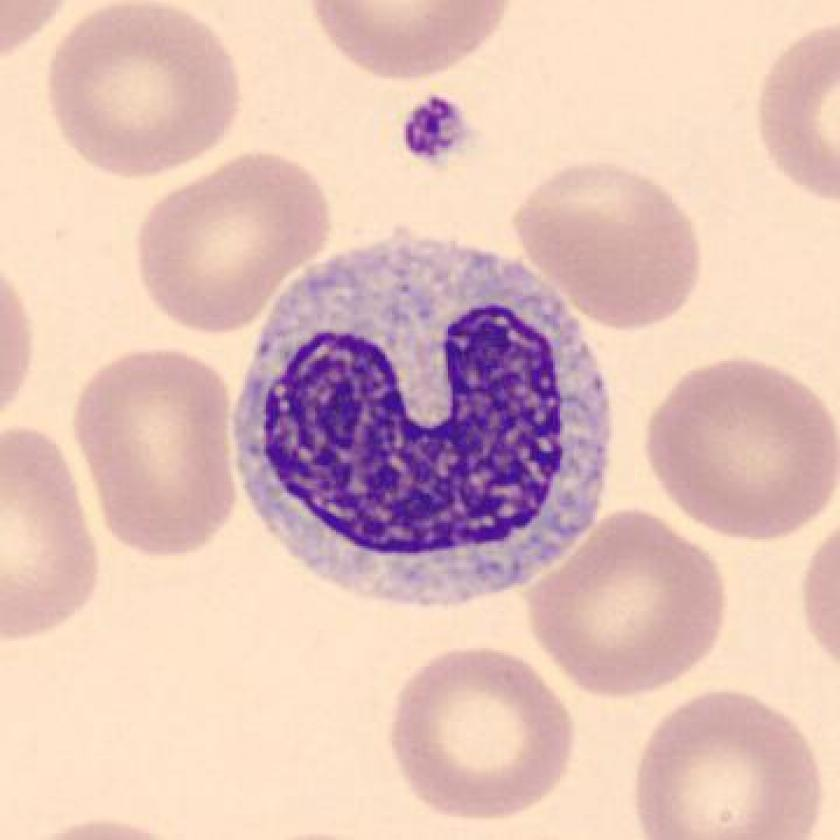monocyte: (207, 217, 634, 631)
